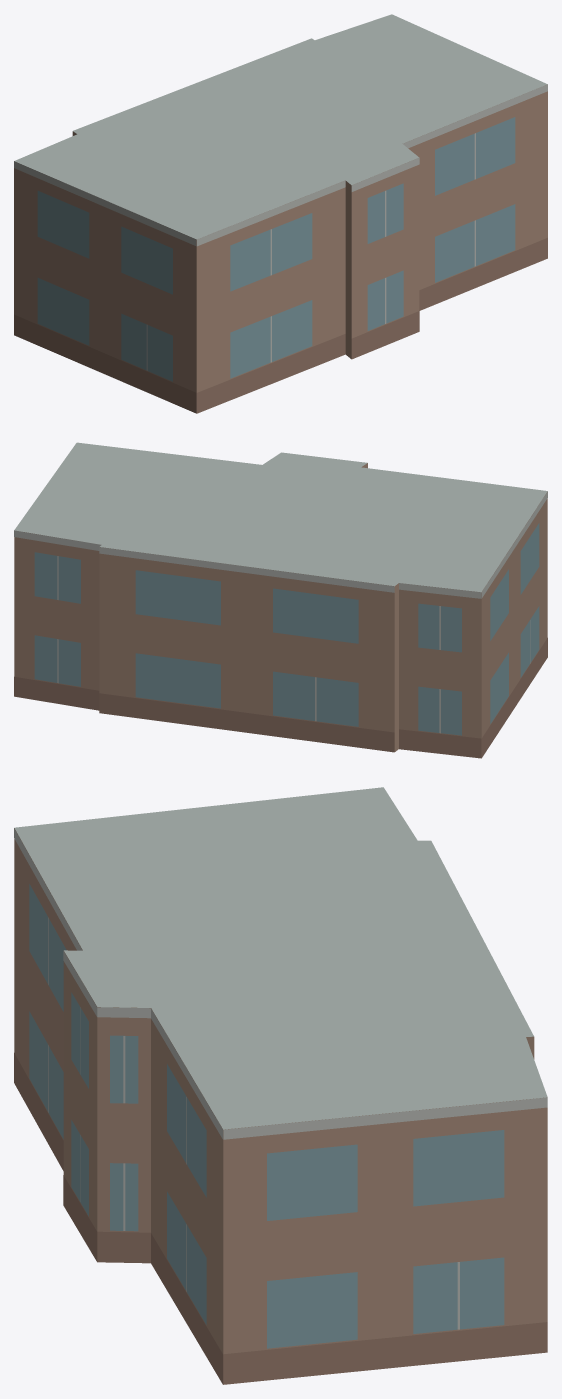
The model's file is survey-upis-32954915.glb.
3 views of the same model, one above another, from view 1: azimuth 30°, elevation 25°; view 2: azimuth 150°, elevation 25°; view 3: azimuth 270°, elevation 25° (orthographic). The views are drawn at different scales.
Visible parts, largest first — view 1: survey-upis-32954915.tmp; view 2: survey-upis-32954915.tmp; view 3: survey-upis-32954915.tmp.
Part boxes in pixels (left/top/right/bottom): survey-upis-32954915.tmp: left=14, top=14, right=547, bottom=413; survey-upis-32954915.tmp: left=14, top=442, right=547, bottom=758; survey-upis-32954915.tmp: left=14, top=787, right=547, bottom=1384.
Size of the model in its own units: 17.57 by 6.1 by 11.57.
